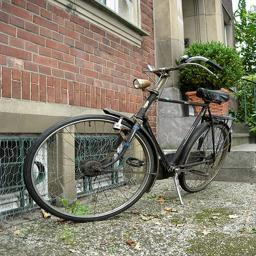bicycle: (63, 128, 256, 256)
pottedplant: (207, 82, 256, 227)
